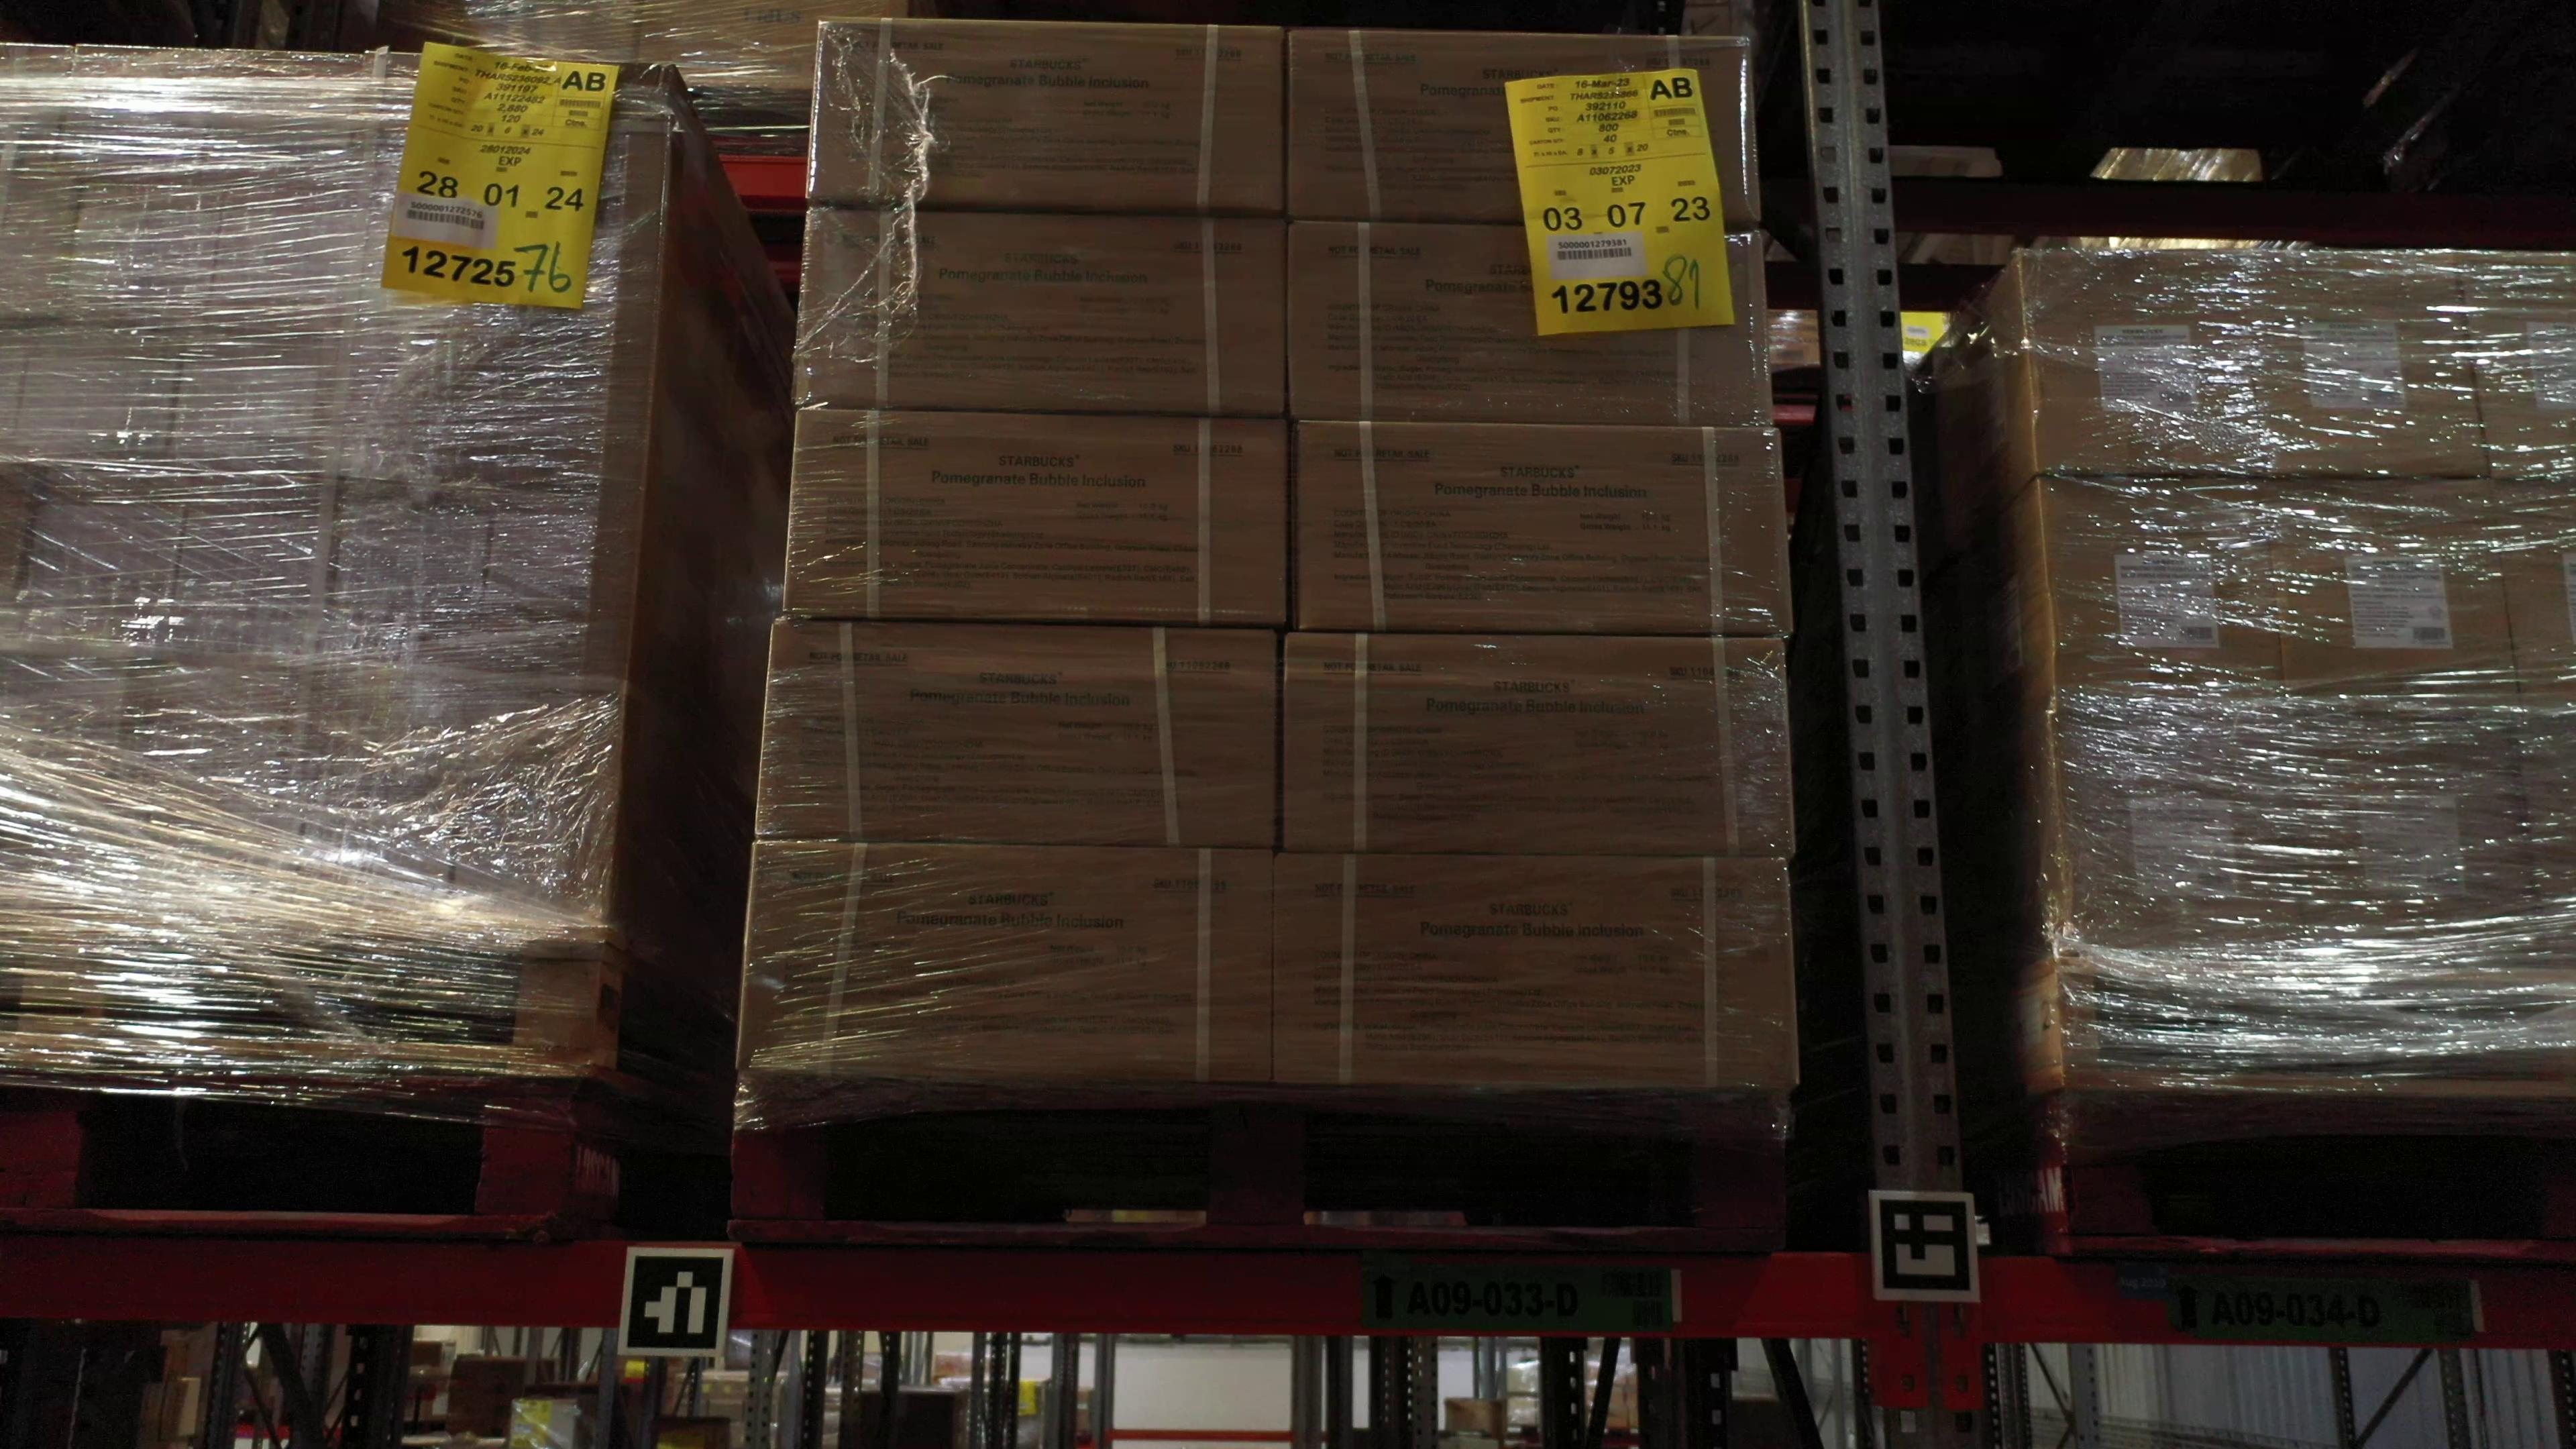-: (736, 840, 1272, 1085), (1267, 847, 1798, 1092), (752, 616, 1279, 849), (1276, 630, 1794, 860), (780, 407, 1288, 625), (1295, 419, 1792, 639), (794, 205, 1286, 419), (1284, 218, 1775, 428), (1284, 27, 1760, 232), (803, 16, 1286, 216), (2263, 476, 2525, 725), (2282, 720, 2549, 964), (2049, 713, 2309, 961), (2038, 474, 2288, 720), (2015, 246, 2270, 479), (2240, 248, 2489, 478), (290, 628, 479, 791), (131, 619, 310, 784), (16, 458, 196, 621), (2452, 249, 2576, 485), (170, 465, 343, 630), (460, 640, 630, 805), (322, 481, 495, 640), (479, 485, 646, 649), (324, 336, 504, 487), (7, 318, 186, 469), (510, 55, 674, 218), (163, 329, 343, 474), (0, 609, 156, 775), (352, 50, 520, 203), (357, 191, 524, 345), (62, 177, 226, 331), (209, 186, 373, 340), (131, 777, 306, 920), (490, 347, 655, 497), (292, 780, 462, 924), (51, 44, 219, 184), (200, 48, 363, 191), (517, 203, 663, 352), (0, 768, 154, 909), (451, 794, 617, 925), (2491, 478, 2576, 724), (2511, 718, 2576, 966), (0, 172, 80, 324), (0, 42, 76, 175)
